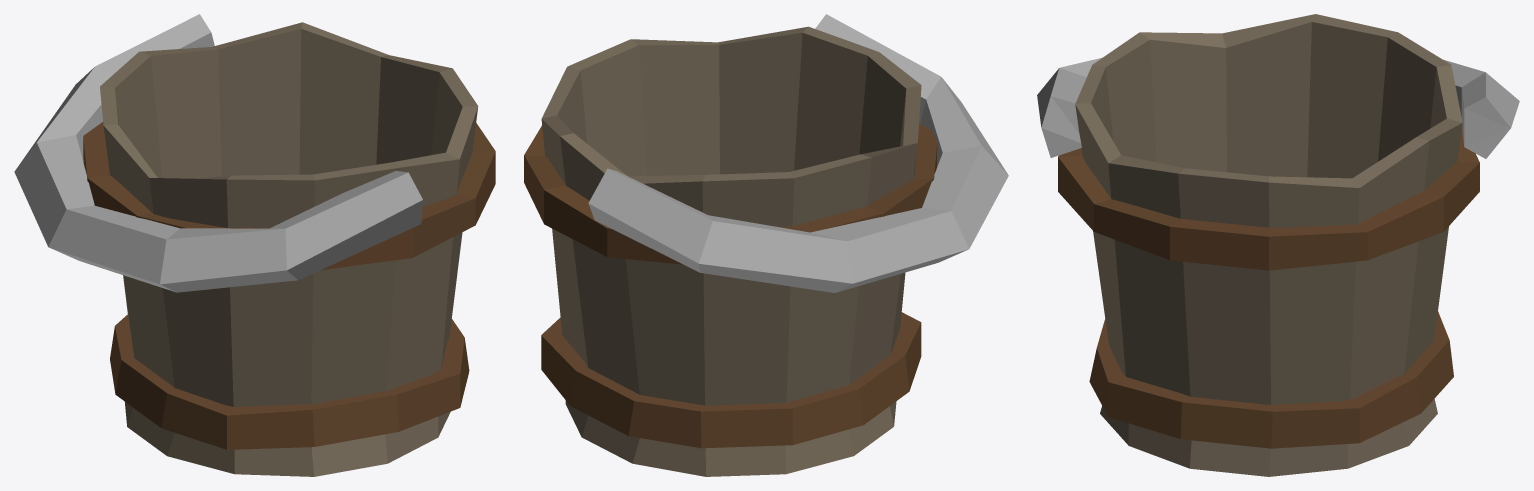
The model's file is bucket_two.fbx.
3 renders of one model, left to right at view 1: azimuth 30°, elevation 25°; view 2: azimuth 150°, elevation 25°; view 3: azimuth 270°, elevation 25°, orthographic. The views are drawn at different scales.
Parts seen in each view (by area): view 1: bucket_two; view 2: bucket_two; view 3: bucket_two.
Boxes of the visible parts, left/top/right/bottom form: bucket_two: left=14, top=14, right=495, bottom=476; bucket_two: left=524, top=14, right=1008, bottom=476; bucket_two: left=1037, top=14, right=1519, bottom=476.
Bounding box in the file's own units: 562 × 400 × 552.
